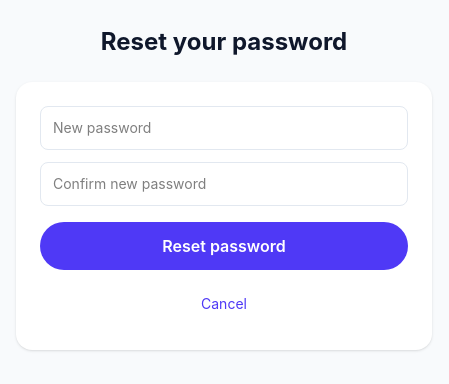
it: ResetPasswordScreen — accessibility › announces a mismatched-confirmation error as an alert
The width and height of the screenshot is (449, 384).
Type "new-password-123" into the password field labelled "New password" at (224, 128), box [40, 106, 408, 150]
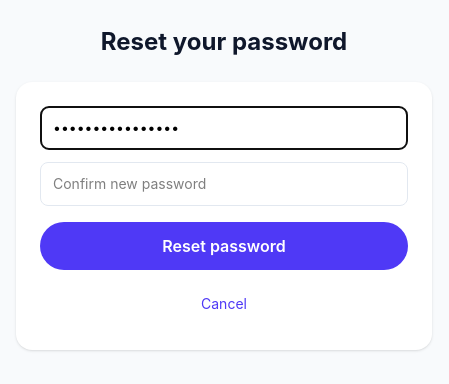
Type "different-password-456" into the password field labelled "Confirm new password" at (224, 184), box [40, 162, 408, 206]
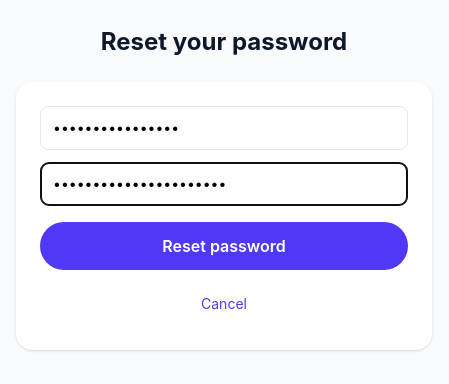
Click the button "Reset password" at (224, 246), box [40, 222, 408, 270]
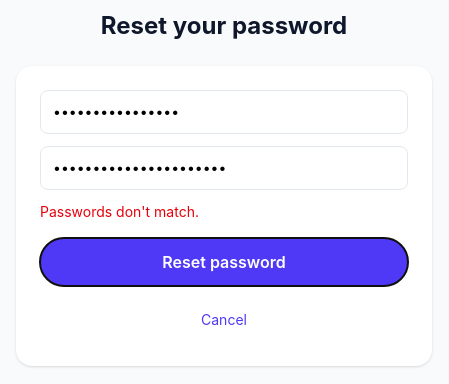
expect the message reads "Passwords don't match.": met, box [40, 203, 199, 220]
